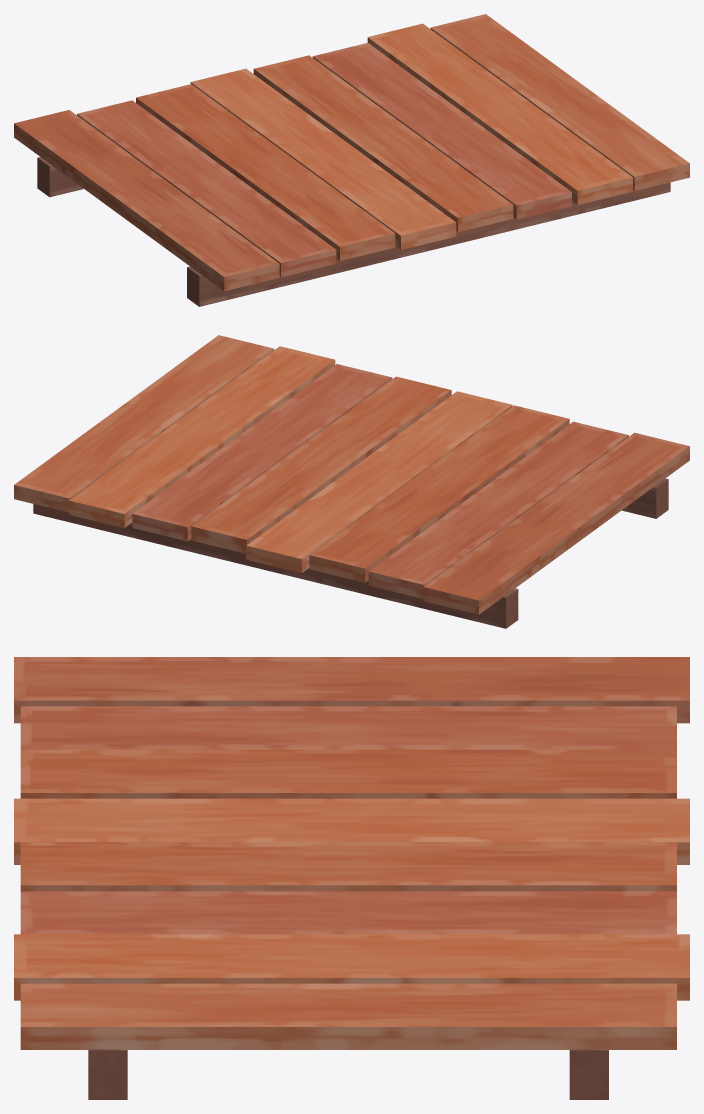
The model's file is plank.bundle.fbx.
3 views of the same model, one above another, from view 1: azimuth 30°, elevation 25°; view 2: azimuth 150°, elevation 25°; view 3: azimuth 270°, elevation 25° (orthographic). The views are drawn at different scales.
Parts seen in each view (by area): view 1: plank, plank_low, plank_s01, plank_s05, plank_s04, plank_s00, plank_s02, plank_s03; view 2: plank, plank_low, plank_s01, plank_s04, plank_s02, plank_s05, plank_s00, plank_s03; view 3: plank, plank_low, plank_s01, plank_s04, plank_s02, plank_s03, plank_s00, plank_s05.
Boxes of the visible parts, x1,y1,x2,y2 form: plank: [15, 15, 688, 306]; plank_low: [14, 14, 689, 291]; plank_s01: [39, 93, 451, 306]; plank_s05: [407, 142, 688, 253]; plank_s04: [153, 59, 467, 143]; plank_s00: [442, 96, 659, 155]; plank_s02: [297, 14, 525, 97]; plank_s03: [480, 43, 633, 122]; plank: [15, 336, 686, 628]; plank_low: [14, 335, 689, 614]; plank_s01: [305, 405, 664, 628]; plank_s04: [199, 436, 348, 584]; plank_s02: [15, 444, 218, 558]; plank_s05: [191, 335, 491, 424]; plank_s00: [163, 358, 321, 448]; plank_s03: [54, 376, 181, 455]; plank: [16, 658, 687, 1099]; plank_low: [14, 657, 689, 1049]; plank_s01: [14, 749, 676, 891]; plank_s04: [304, 765, 689, 944]; plank_s02: [408, 874, 689, 1050]; plank_s03: [195, 958, 548, 1049]; plank_s00: [114, 900, 409, 1099]; plank_s05: [14, 818, 228, 1099].
Bounding box in the file's own units: 8 × 0.75 × 6.18.
1 material, 1 textured.
